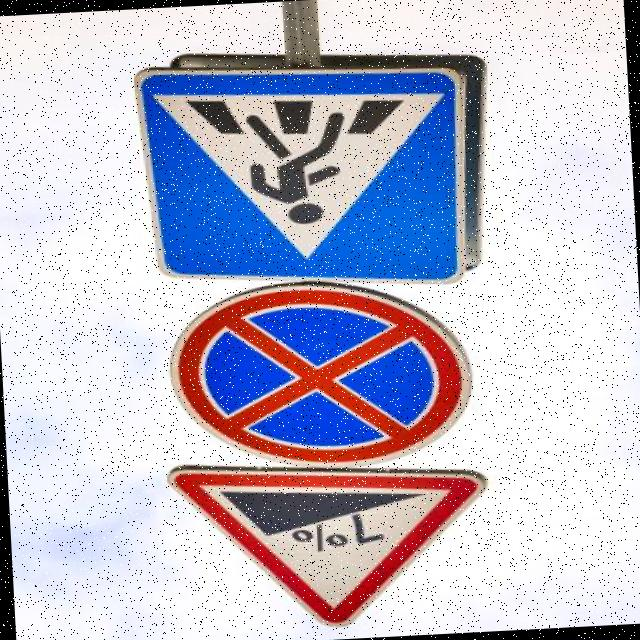crosswalk: (128, 44, 470, 308)
